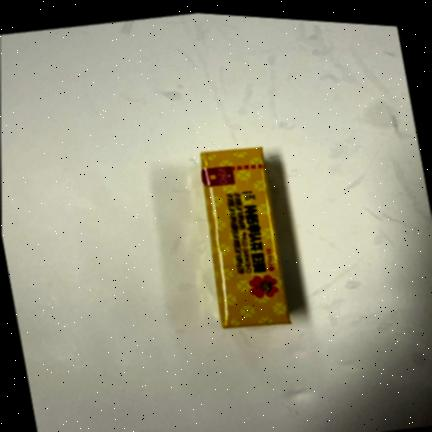gum_yellow: (200, 148, 290, 329)
